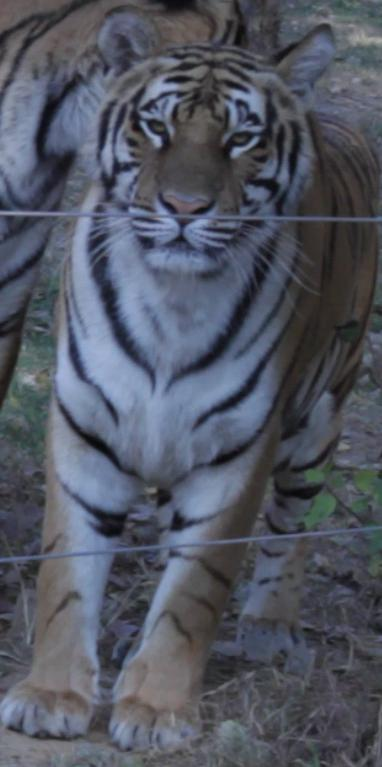tiger: (0, 0, 378, 747)
